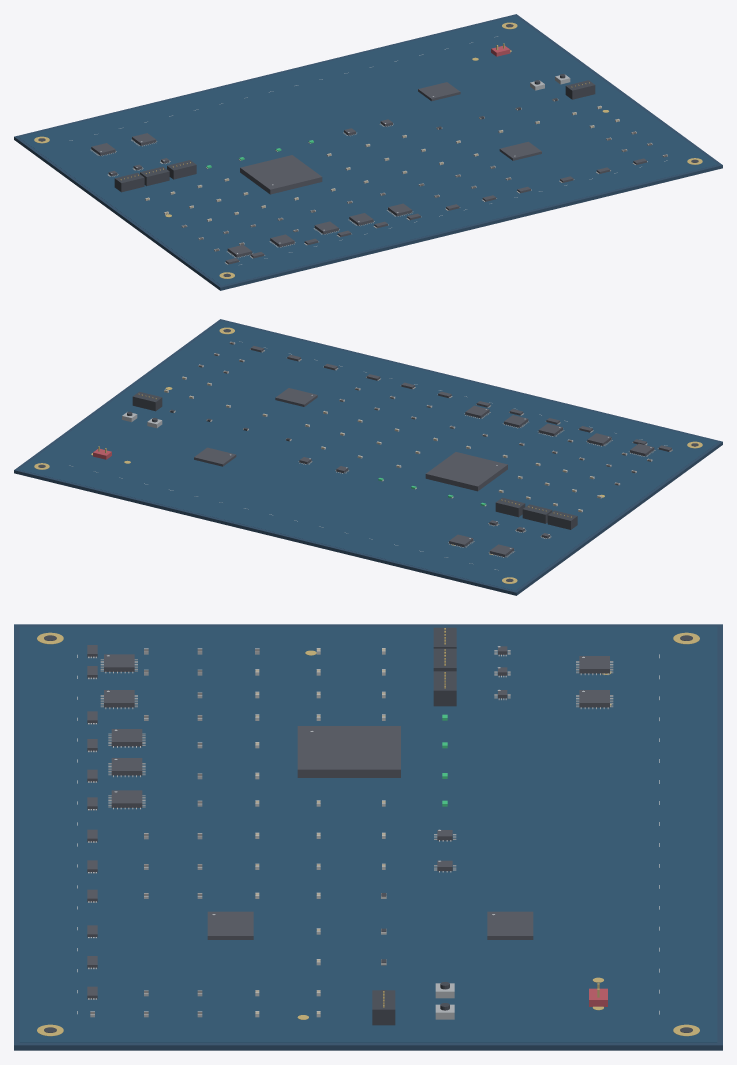
The model's file is 121_L104_AssembledReference.glb.
The picture shows the model from 3 angles, top to bottom: view 1: azimuth 30°, elevation 25°; view 2: azimuth 150°, elevation 25°; view 3: azimuth 270°, elevation 25°; orthographic projection. The views are drawn at different scales.
Parts seen in each view (by area): view 1: L104_AssembledReference_mask_1, L104_AssembledReference_pcb_0, L104_AssembledReference_chip_5, L104_AssembledReference_black_3, L104_AssembledReference_silver_6, L104_AssembledReference_gold_2; view 2: L104_AssembledReference_mask_1, L104_AssembledReference_pcb_0, L104_AssembledReference_chip_5, L104_AssembledReference_black_3, L104_AssembledReference_silver_6, L104_AssembledReference_gold_2; view 3: L104_AssembledReference_mask_1, L104_AssembledReference_chip_5, L104_AssembledReference_pcb_0, L104_AssembledReference_black_3, L104_AssembledReference_silver_6, L104_AssembledReference_gold_2, L104_AssembledReference_tin_11.
Boxes of the visible parts, box(x1,y1,x2,y2) form: L104_AssembledReference_mask_1: box(19, 16, 717, 285); L104_AssembledReference_pcb_0: box(14, 14, 722, 290); L104_AssembledReference_chip_5: box(91, 82, 646, 264); L104_AssembledReference_black_3: box(38, 24, 698, 276); L104_AssembledReference_silver_6: box(90, 74, 667, 264); L104_AssembledReference_gold_2: box(34, 22, 702, 278); L104_AssembledReference_mask_1: box(19, 321, 717, 590); L104_AssembledReference_pcb_0: box(14, 319, 722, 595); L104_AssembledReference_chip_5: box(194, 346, 671, 557); L104_AssembledReference_black_3: box(38, 329, 698, 581); L104_AssembledReference_silver_6: box(122, 341, 672, 557); L104_AssembledReference_gold_2: box(34, 327, 702, 583); L104_AssembledReference_mask_1: box(19, 626, 717, 1042); L104_AssembledReference_chip_5: box(87, 645, 609, 998); L104_AssembledReference_pcb_0: box(14, 624, 722, 1050); L104_AssembledReference_black_3: box(44, 627, 692, 1032); L104_AssembledReference_silver_6: box(88, 646, 613, 1019); L104_AssembledReference_gold_2: box(37, 628, 699, 1036); L104_AssembledReference_tin_11: box(255, 648, 386, 1017).
Size of the model in its own units: 0.26 by 0.00666 by 0.185.
